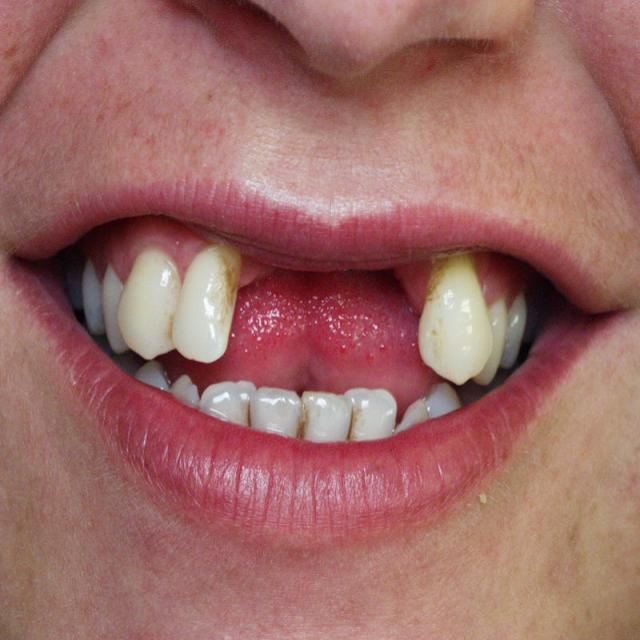Crowding: (100, 271, 154, 354), (467, 289, 507, 390)
Missing: (176, 244, 463, 371)
